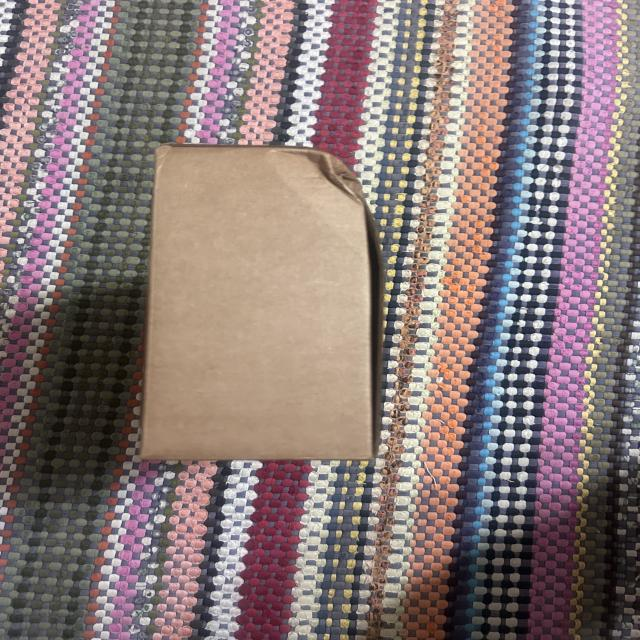damaged: (141, 135, 386, 477), (276, 125, 374, 239)
